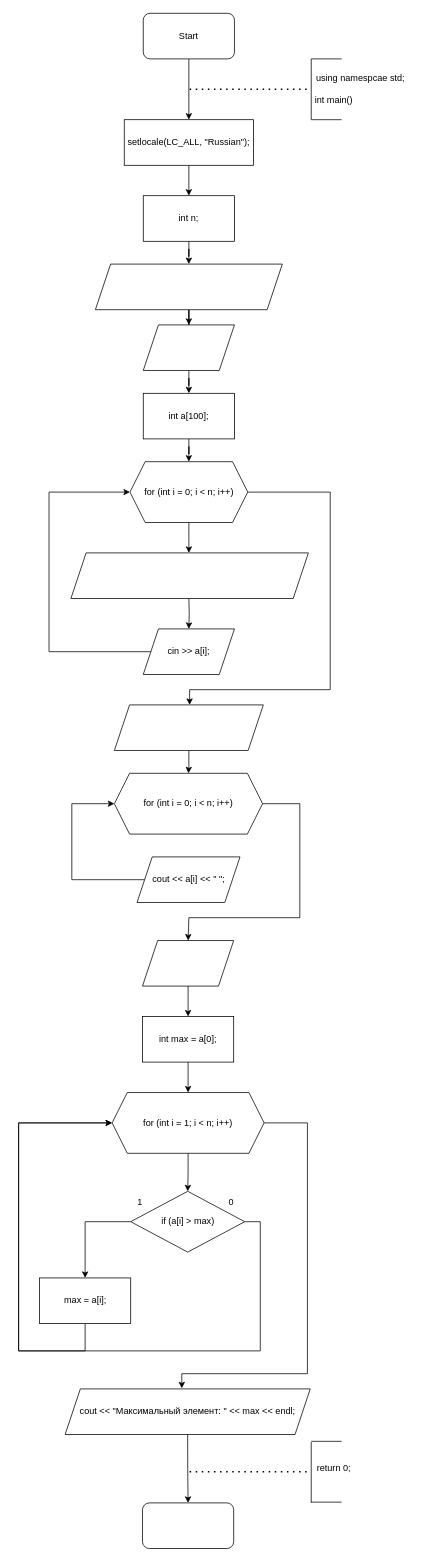
This 423x1562 diagram has some shape labels left out. Here are the shapes that lost their labels. From the top down, the box of each, then its label:
(95, 263, 282, 310): cout << "Введите размер массива: ";
(142, 324, 234, 370): cin >> n;
(70, 552, 308, 598): cout << "Введите число номер " << n + 1 << ":";
(114, 704, 263, 750): cout << "Массив: ";
(142, 940, 234, 986): cout << endl;
(142, 1502, 234, 1548): end
